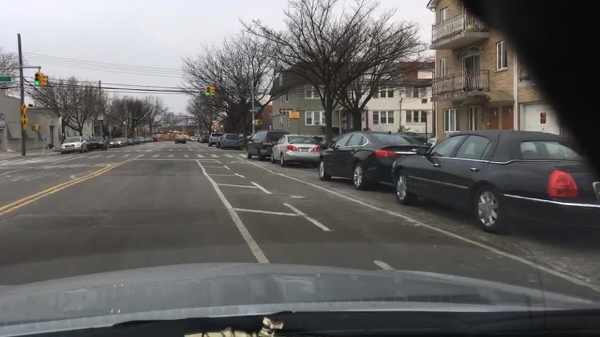car: (389, 127, 599, 238), (316, 130, 430, 192), (269, 133, 323, 168), (244, 129, 291, 159), (318, 131, 350, 150), (60, 136, 89, 154), (85, 134, 111, 150), (220, 132, 241, 150), (209, 132, 225, 146), (108, 137, 125, 148), (175, 134, 188, 145), (215, 135, 226, 147), (199, 134, 210, 145), (119, 137, 127, 146), (128, 138, 136, 146), (188, 134, 197, 141), (138, 135, 145, 143)
traffic light: (33, 71, 41, 87), (41, 73, 49, 87), (210, 86, 217, 96), (204, 87, 211, 97)
traffic sign: (22, 114, 29, 130), (0, 74, 11, 84), (279, 107, 294, 114), (21, 103, 29, 114), (30, 124, 41, 131), (248, 107, 260, 113)
